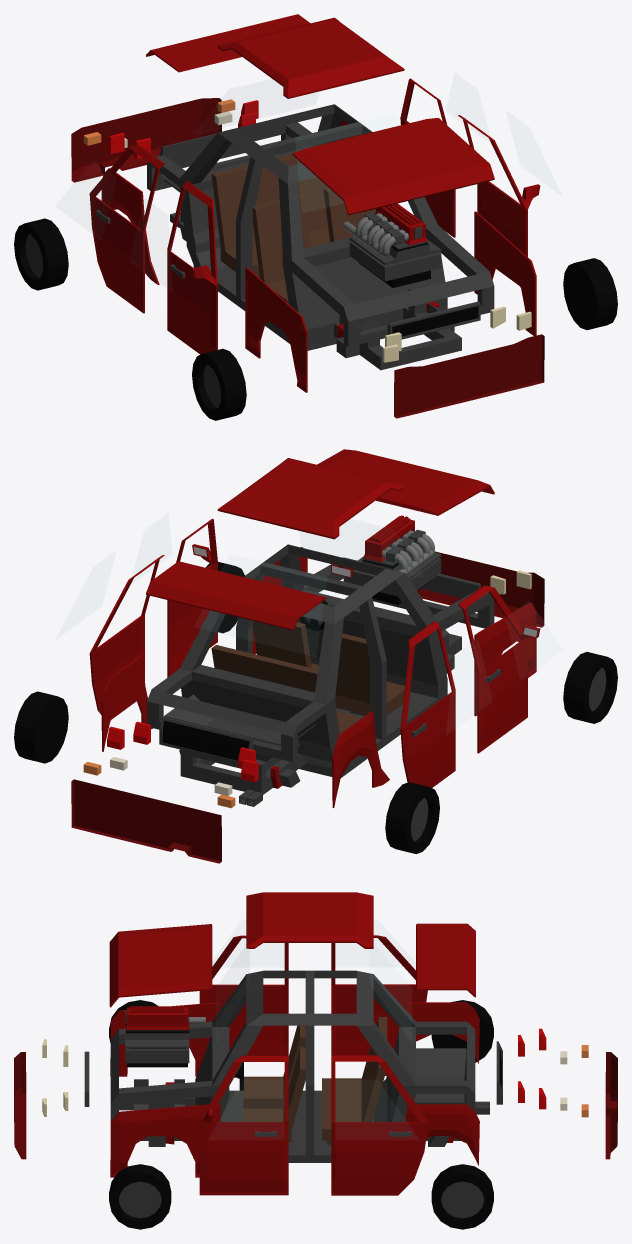
The model's file is destructible_car_pieces.glb.
3 renders of one model, top to bottom at view 1: azimuth 30°, elevation 25°; view 2: azimuth 150°, elevation 25°; view 3: azimuth 270°, elevation 25°, orthographic. The views are drawn at different scales.
Parts seen in each view (by area): view 1: Chassis, Hood, Roof, Bumper_F, Bumper_B, Engine, Door_RF, Door_RB, Seat_B, Fender_RF, Door_LF, Wheel_LF (+10 smaller); view 2: Chassis, Roof, Bumper_B, Boot, Door_RF, Door_RB, Hood, Engine, Door_LB, Bumper_F, Wheel_RF, Wheel_LB (+9 smaller); view 3: Chassis, Door_LF, Door_LB, Hood, Roof, Engine, Boot, Fender_LF, Door_RB, Door_RF, Wheel_LB, Wheel_LF (+9 smaller).
Part boxes in pixels (x1,y1,x2,y2): Chassis: [147, 104, 494, 370]; Hood: [292, 118, 494, 215]; Roof: [217, 17, 404, 98]; Bumper_F: [394, 334, 544, 418]; Bumper_B: [71, 98, 221, 182]; Engine: [343, 203, 441, 287]; Door_RF: [167, 181, 217, 354]; Door_RB: [89, 145, 164, 313]; Seat_B: [211, 154, 329, 277]; Fender_RF: [245, 267, 307, 392]; Door_LF: [458, 115, 540, 285]; Wheel_LF: [563, 258, 617, 329]; Chassis: [147, 544, 494, 806]; Roof: [217, 458, 404, 539]; Bumper_B: [71, 779, 221, 863]; Boot: [146, 561, 326, 630]; Door_RF: [458, 585, 540, 753]; Door_RB: [400, 621, 455, 787]; Hood: [317, 449, 494, 515]; Engine: [349, 515, 441, 604]; Door_LB: [89, 555, 164, 719]; Bumper_F: [417, 551, 544, 627]; Wheel_RF: [563, 652, 617, 723]; Wheel_LB: [14, 691, 68, 763]; Chassis: [110, 970, 489, 1162]; Door_LF: [199, 1055, 288, 1195]; Door_LB: [331, 1055, 428, 1195]; Hood: [109, 924, 212, 1007]; Roof: [246, 892, 373, 948]; Engine: [125, 1006, 205, 1067]; Boot: [416, 923, 475, 997]; Fender_LF: [110, 1104, 220, 1177]; Door_RB: [331, 935, 427, 1055]; Door_RF: [199, 935, 288, 1055]; Wheel_LB: [431, 1164, 493, 1229]; Wheel_LF: [109, 1164, 171, 1229].
Size of the model in its own units: 4.83 by 2.98 by 7.12.
